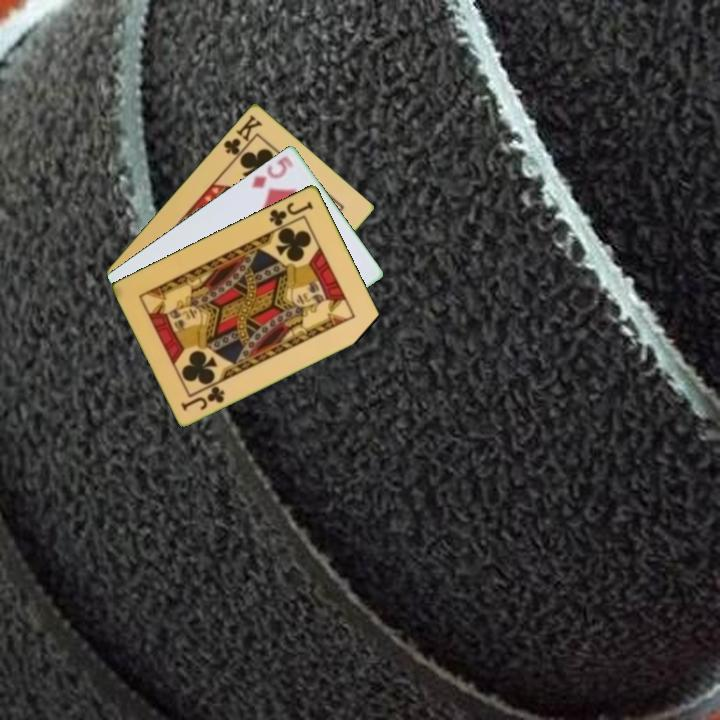5d: (248, 152, 296, 191)
Jc: (266, 197, 316, 229), (178, 382, 228, 413)
Kc: (220, 111, 266, 164)
